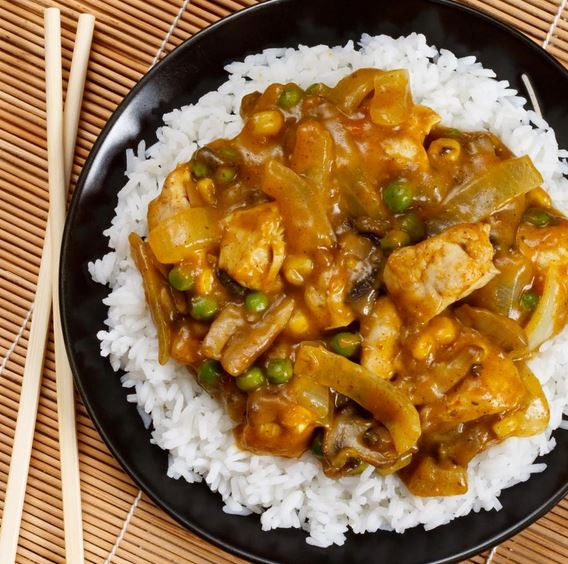curry: (196, 105, 528, 446), (176, 227, 388, 437), (369, 154, 555, 370), (236, 85, 446, 275), (335, 283, 528, 483), (155, 155, 334, 357)
